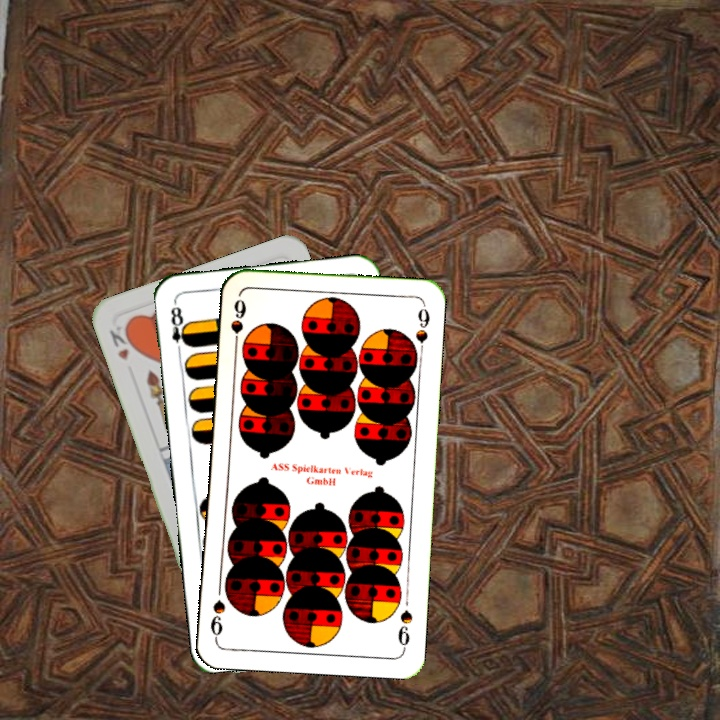E8: (167, 299, 192, 358)
HK: (105, 319, 138, 363)
S9: (227, 294, 249, 352), (393, 605, 415, 653)
